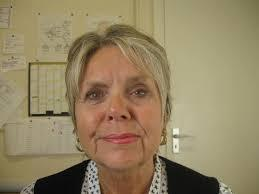normalMouth: (90, 127, 149, 148)
